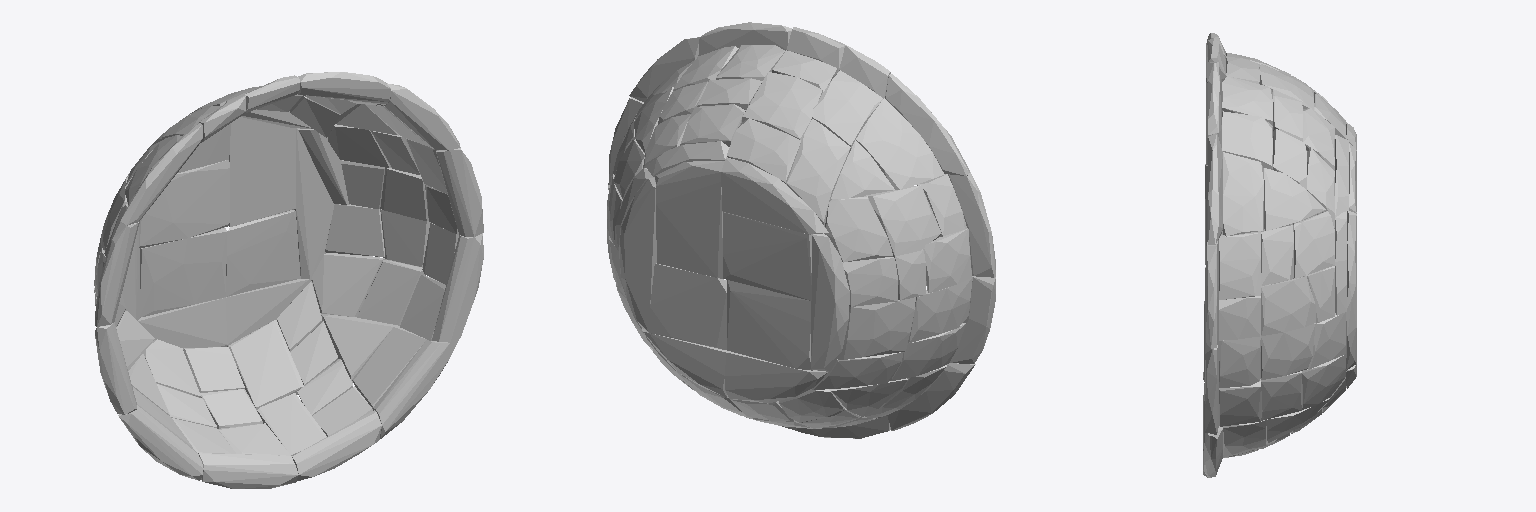
File: bowlycb_vhacd.obj
3 views of the same model, side by side, from view 1: azimuth 30°, elevation 25°; view 2: azimuth 150°, elevation 25°; view 3: azimuth 270°, elevation 25° (orthographic).
Parts seen in each view (by area): view 1: convex_10, convex_4, convex_7, convex_5, convex_28, convex_6, convex_73, convex_37, convex_15, convex_1, convex_65, convex_33 (+28 smaller); view 2: convex_10, convex_4, convex_7, convex_5, convex_8, convex_3, convex_14, convex_6, convex_42, convex_24, convex_1, convex_45 (+28 smaller); view 3: convex_56, convex_13, convex_34, convex_55, convex_76, convex_38, convex_53, convex_43, convex_41, convex_52, convex_9, convex_74 (+22 smaller).
Part boxes in pixels (left/top/right/bottom): convex_10: left=229, top=117, right=295, bottom=226; convex_4: left=140, top=227, right=226, bottom=317; convex_7: left=139, top=160, right=229, bottom=247; convex_5: left=226, top=210, right=300, bottom=296; convex_28: left=228, top=320, right=303, bottom=409; convex_6: left=294, top=128, right=334, bottom=278; convex_73: left=312, top=253, right=386, bottom=316; convex_37: left=373, top=338, right=459, bottom=438; convex_15: left=432, top=233, right=483, bottom=342; convex_1: left=138, top=298, right=227, bottom=349; convex_65: left=198, top=453, right=298, bottom=488; convex_33: left=292, top=410, right=381, bottom=481; convex_10: left=655, top=161, right=724, bottom=278; convex_4: left=727, top=280, right=812, bottom=370; convex_7: left=723, top=212, right=812, bottom=300; convex_5: left=649, top=263, right=726, bottom=349; convex_8: left=721, top=157, right=828, bottom=234; convex_3: left=810, top=233, right=849, bottom=371; convex_14: left=856, top=98, right=944, bottom=189; convex_6: left=619, top=178, right=656, bottom=332; convex_42: left=787, top=119, right=850, bottom=226; convex_24: left=838, top=297, right=915, bottom=359; convex_1: left=725, top=351, right=827, bottom=403; convex_45: left=742, top=72, right=822, bottom=140; convex_56: left=1223, top=152, right=1263, bottom=236; convex_13: left=1219, top=231, right=1260, bottom=299; convex_34: left=1261, top=276, right=1315, bottom=335; convex_55: left=1264, top=168, right=1325, bottom=230; convex_76: left=1261, top=323, right=1315, bottom=379; convex_38: left=1294, top=211, right=1334, bottom=278; convex_53: left=1222, top=111, right=1272, bottom=169; convex_43: left=1219, top=336, right=1260, bottom=387; convex_41: left=1261, top=225, right=1293, bottom=285; convex_52: left=1222, top=76, right=1272, bottom=125; convex_9: left=1219, top=296, right=1260, bottom=340; convex_74: left=1261, top=371, right=1301, bottom=420.
Size of the model in its own units: 0.162 by 0.1614 by 0.0555.